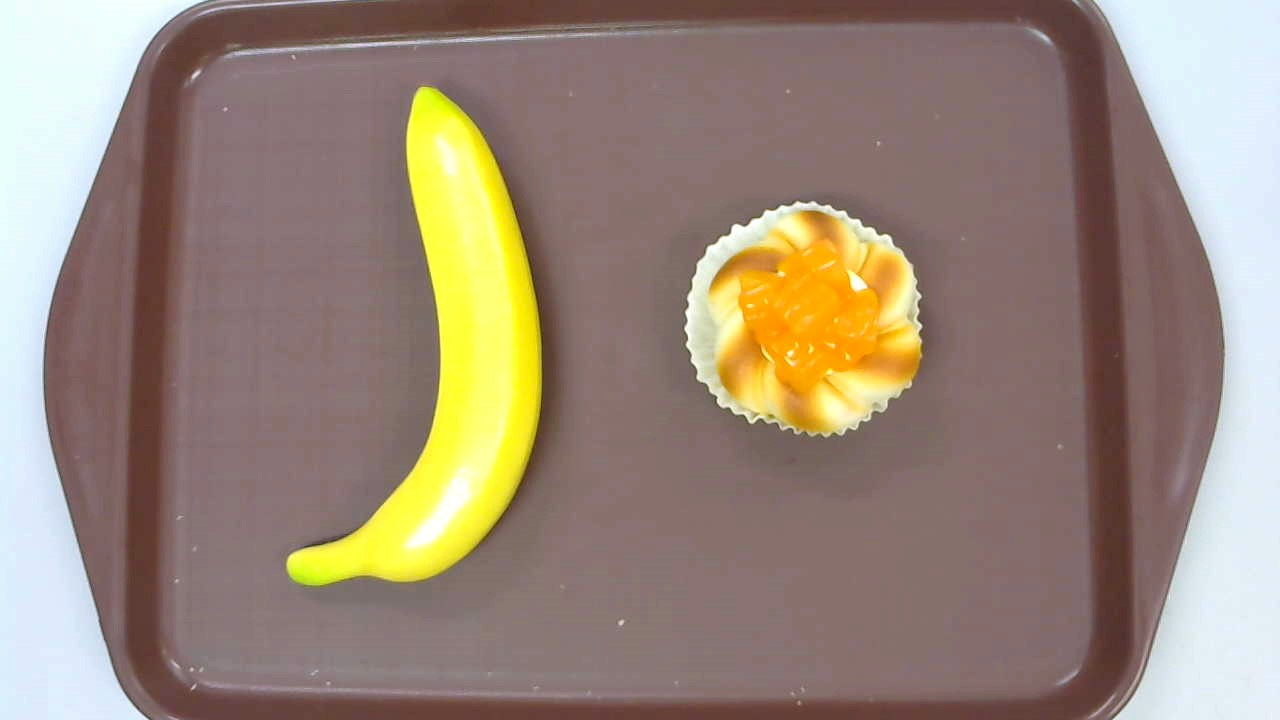banana: (285, 85, 541, 584)
mango tart: (683, 201, 922, 440)
